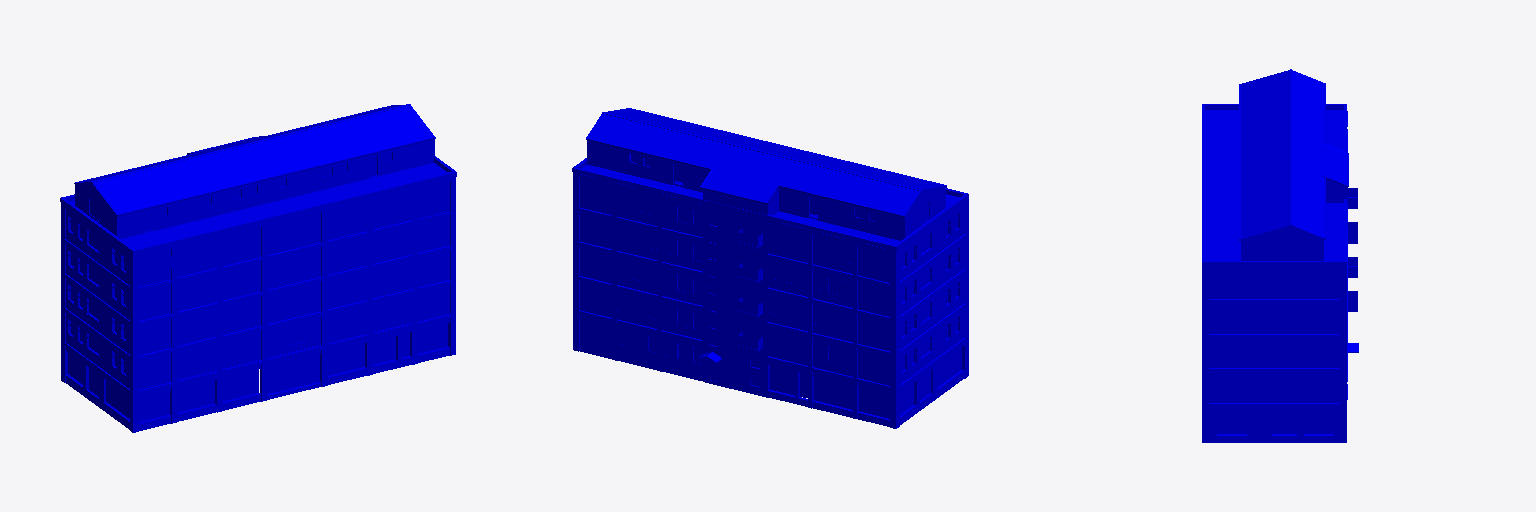
File: kirkkokatu_9_1.obj
The picture shows the model from 3 angles: view 1: azimuth 30°, elevation 25°; view 2: azimuth 150°, elevation 25°; view 3: azimuth 270°, elevation 25°; orthographic projection.
Visible parts, largest first — view 1: Object_1; view 2: Object_1; view 3: Object_1.
Part boxes in pixels (bbox=[...]): Object_1: bbox=[60, 104, 456, 432]; Object_1: bbox=[572, 108, 968, 428]; Object_1: bbox=[1202, 69, 1358, 442].
Bounding box in the file's own units: 31.45 × 20.25 × 13.21.